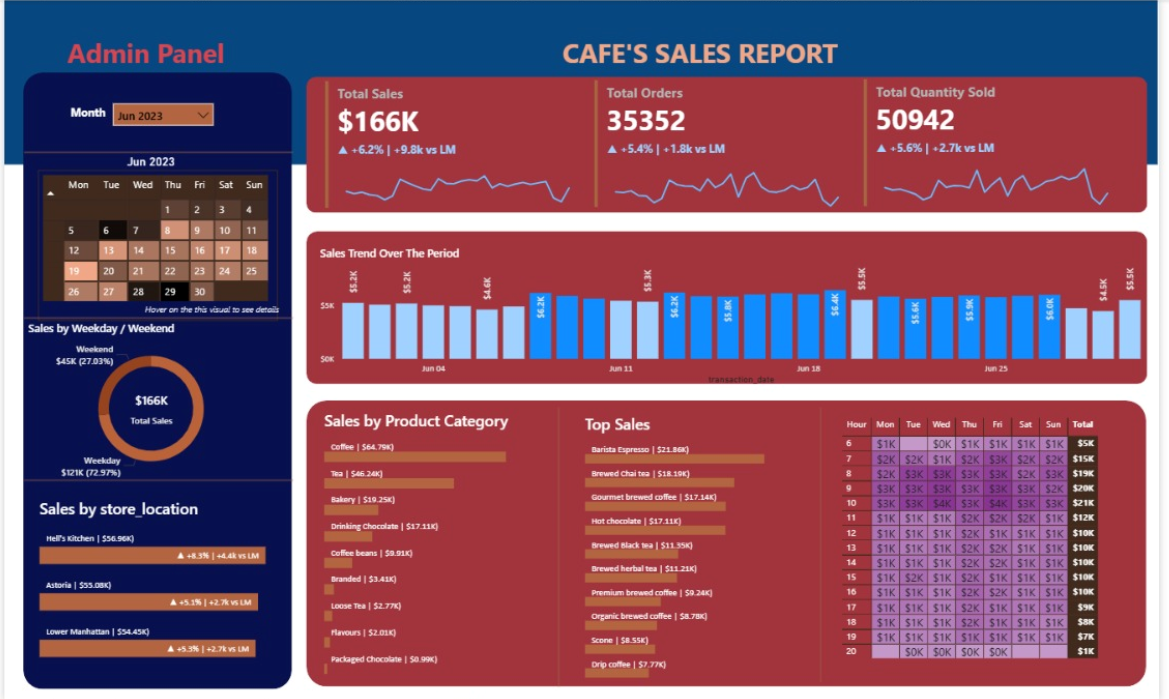

The dashboard page shown, as its layout file describes it:
{"tool":"powerbi","page":{"name":"Page 1","canvas":[1400,850],"ordinal":0},"visuals":[{"type":"shape","box":[0,0,1399.3,199.5],"z":0},{"type":"shape","box":[23.4,88.3,325.5,747.9],"z":1000},{"type":"shape","box":[366,93.6,1020.2,164.9],"z":2000},{"type":"textbox","box":[71.7,36.5,311.9,63.2],"z":3000},{"type":"cardVisual","fields":{"Data":["Transactions.Total Quantity Sold"]},"box":[1036.9,91.2,300,164.9],"z":4000,"group":"g3"},{"type":"cardVisual","fields":{"Data":["Transactions.Total Orders"]},"box":[710.8,91.6,300,164.9],"z":4000,"group":"g2"},{"type":"cardVisual","fields":{"Data":["Transactions.Total Sales"]},"box":[384,93.6,300,164.9],"z":4000,"group":"g1"},{"type":"slicer","fields":{"Values":["Date Table.Month Year"]},"box":[126.4,120.8,132.1,40.7],"z":4000},{"type":"group","id":"g1","title":"Group 1","box":[384,93.6,316,164.9],"z":5000},{"type":"group","id":"g2","title":"Group 1","box":[710.8,91.6,316,164.9],"z":6000},{"type":"lineChart","fields":{"Category":["Date Table.Date.Variation.Date Hierarchy.Year","Date Table.Date.Variation.Date Hierarchy.Quarter","Date Table.Date.Variation.Date Hierarchy.Month","Date Table.Date.Variation.Date Hierarchy.Day"],"Y":["Transactions.Total Quantity Sold"]},"box":[1052.9,171,300,85.1],"z":6000,"group":"g3"},{"type":"lineChart","fields":{"Category":["Date Table.Date.Variation.Date Hierarchy.Year","Date Table.Date.Variation.Date Hierarchy.Quarter","Date Table.Date.Variation.Date Hierarchy.Month","Date Table.Date.Variation.Date Hierarchy.Day"],"Y":["Transactions.Total Orders"]},"box":[726.8,171.4,300,85.1],"z":6000,"group":"g2"},{"type":"lineChart","fields":{"Category":["Date Table.Date.Variation.Date Hierarchy.Year","Date Table.Date.Variation.Date Hierarchy.Quarter","Date Table.Date.Variation.Date Hierarchy.Month","Date Table.Date.Variation.Date Hierarchy.Day"],"Y":["Transactions.Total Sales"]},"box":[400,173.4,300,85.1],"z":6000,"group":"g1"},{"type":"group","id":"g3","title":"Group 1","box":[1036.9,91.2,316.1,164.4],"z":7000},{"type":"pivotTable","fields":{"Rows":["Date Table.Week Number"],"Columns":["Date Table.Day Name"],"Values":["Min(Date Table.Day Number)"]},"box":[40.7,206.5,290.8,182.6],"z":8000},{"type":"card","fields":{"Values":["Min(Date Table.Month Year)"]},"box":[122.2,175.6,111,42.1],"z":9000},{"type":"card","fields":{"Values":["Transactions.Foot Note"]},"box":[154.5,354,193.9,47.8],"z":10000},{"type":"donutChart","title":"Sales by Weekday / Weekend","fields":{"Category":["Date Table.Weekday / Weekend"],"Y":["Transactions.Total Sales"]},"box":[23.9,389.2,307.7,195.3],"z":11000},{"type":"card","fields":{"Values":["Transactions.Total Sales"]},"box":[111,462.2,134.9,64.6],"z":12000},{"type":"shape","box":[23.9,373.7,326,23.9],"z":13000},{"type":"shape","box":[23.9,172.8,326,23.9],"z":14000},{"type":"shape","box":[23.9,570.4,326,23.9],"z":15000},{"type":"clusteredBarChart","title":"Sales by store_location","fields":{"Category":["Transactions.store_location"],"Y":["Transactions.Placeholder","Transactions.Total Sales"]},"box":[37.9,604.1,307.7,200.9],"z":16000},{"type":"shape","box":[366.7,281,1020,185.5],"z":17000},{"type":"columnChart","title":"Sales Trend Over The Period","fields":{"Category":["Transactions.transaction_date"],"Y":["Transactions.Total Sales"]},"box":[377.9,297.9,1007.4,172.8],"z":18000},{"type":"shape","box":[366.7,486.1,1018.6,347],"z":19000},{"type":"clusteredBarChart","title":"Sales by Product Category","fields":{"Y":["Transactions.Placeholder","Transactions.Total Sales"],"Category":["Transactions.product_category"]},"box":[383.6,497.4,257.1,326],"z":20000},{"type":"shape","box":[660.3,494.5,23.9,338.6],"z":21000},{"type":"clusteredBarChart","title":"Top Sales ","fields":{"Y":["Transactions.Placeholder","Transactions.Total Sales"],"Category":["Transactions.product_type"]},"box":[699.7,501.6,257.1,326],"z":22000},{"type":"shape","box":[983.5,494.5,12.6,333],"z":23000},{"type":"pivotTable","fields":{"Rows":["Transactions.Hour"],"Columns":["Date Table.Day Name"],"Values":["Transactions.Total Sales"]},"box":[1011.6,501.6,326,303.5],"z":24000},{"type":"textbox","box":[75.9,122.2,78.7,39.3],"z":25000},{"type":"textbox","box":[671.6,36.5,365.3,63.2],"z":26000}]}

Visuals, with their boxes in screenshot pixels (x1, y1, x2, y2), scaled from the page's 1400x850 canvas onto the 1169x699 screenshot:
shape: pyautogui.locateOnScreen(0, 0, 1168, 164)
shape: pyautogui.locateOnScreen(20, 73, 291, 688)
shape: pyautogui.locateOnScreen(306, 77, 1157, 213)
textbox: pyautogui.locateOnScreen(60, 30, 320, 82)
cardVisual - Transactions.Total Quantity Sold: pyautogui.locateOnScreen(866, 75, 1116, 211)
cardVisual - Transactions.Total Orders: pyautogui.locateOnScreen(594, 75, 844, 211)
cardVisual - Transactions.Total Sales: pyautogui.locateOnScreen(321, 77, 571, 213)
slicer - Date Table.Month Year: pyautogui.locateOnScreen(106, 99, 216, 133)
"Group 1" group: pyautogui.locateOnScreen(321, 77, 584, 213)
"Group 1" group: pyautogui.locateOnScreen(594, 75, 857, 211)
lineChart - Date Table.Date.Variation.Date Hierarchy.Year x Date Table.Date.Variation.Date Hierarchy.Quarter: pyautogui.locateOnScreen(879, 141, 1130, 211)
lineChart - Date Table.Date.Variation.Date Hierarchy.Year x Date Table.Date.Variation.Date Hierarchy.Quarter: pyautogui.locateOnScreen(607, 141, 857, 211)
lineChart - Date Table.Date.Variation.Date Hierarchy.Year x Date Table.Date.Variation.Date Hierarchy.Quarter: pyautogui.locateOnScreen(334, 143, 584, 213)
"Group 1" group: pyautogui.locateOnScreen(866, 75, 1130, 210)
pivotTable - Date Table.Week Number x Date Table.Day Name: pyautogui.locateOnScreen(34, 170, 277, 320)
card - Min(Date Table.Month Year): pyautogui.locateOnScreen(102, 144, 195, 179)
card - Transactions.Foot Note: pyautogui.locateOnScreen(129, 291, 291, 330)
"Sales by Weekday / Weekend" donutChart: pyautogui.locateOnScreen(20, 320, 277, 481)
card - Transactions.Total Sales: pyautogui.locateOnScreen(93, 380, 205, 433)
shape: pyautogui.locateOnScreen(20, 307, 292, 327)
shape: pyautogui.locateOnScreen(20, 142, 292, 162)
shape: pyautogui.locateOnScreen(20, 469, 292, 489)
"Sales by store_location" clusteredBarChart: pyautogui.locateOnScreen(32, 497, 289, 662)
shape: pyautogui.locateOnScreen(306, 231, 1158, 384)
"Sales Trend Over The Period" columnChart: pyautogui.locateOnScreen(316, 245, 1157, 387)
shape: pyautogui.locateOnScreen(306, 400, 1157, 685)
"Sales by Product Category" clusteredBarChart: pyautogui.locateOnScreen(320, 409, 535, 677)
shape: pyautogui.locateOnScreen(551, 407, 571, 685)
"Top Sales " clusteredBarChart: pyautogui.locateOnScreen(584, 412, 799, 681)
shape: pyautogui.locateOnScreen(821, 407, 832, 680)
pivotTable - Transactions.Hour x Date Table.Day Name: pyautogui.locateOnScreen(845, 412, 1117, 662)
textbox: pyautogui.locateOnScreen(63, 100, 129, 133)
textbox: pyautogui.locateOnScreen(561, 30, 866, 82)
